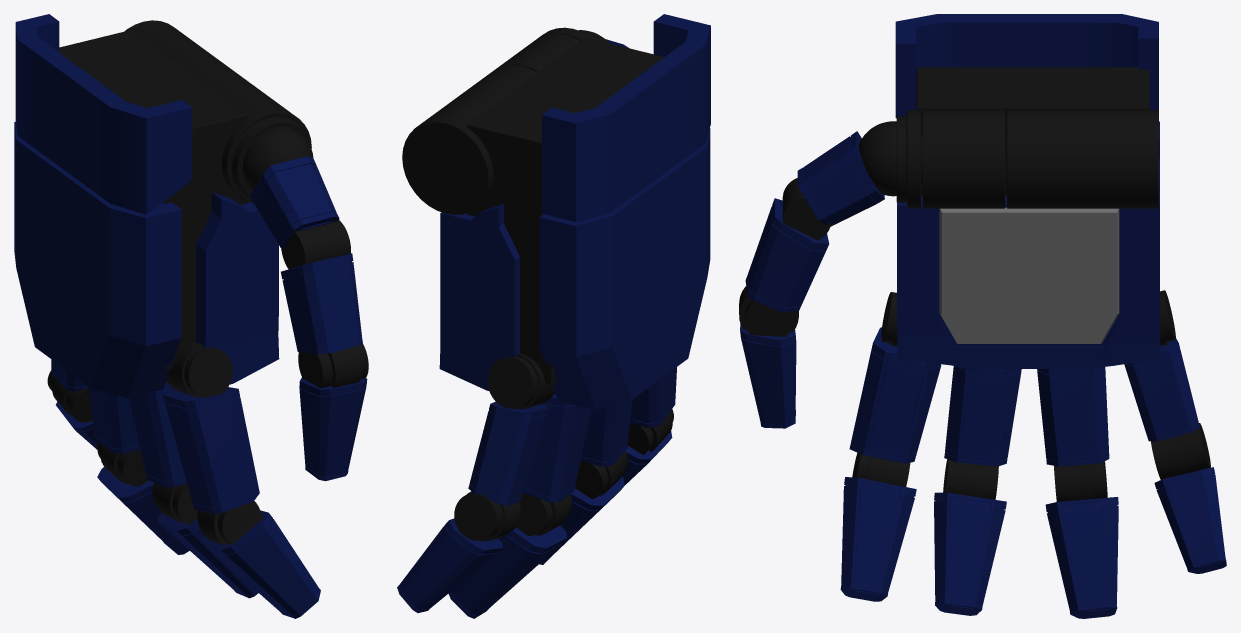
Rendered from r_hand.obj.
3 views of the same model, side by side, from view 1: azimuth 30°, elevation 25°; view 2: azimuth 150°, elevation 25°; view 3: azimuth 270°, elevation 25° (orthographic). The views are drawn at different scales.
Visible parts, largest first — view 1: r_hand; view 2: r_hand; view 3: r_hand.
Boxes of the visible parts, bbox=[...] form: r_hand: bbox=[14, 14, 368, 618]; r_hand: bbox=[397, 14, 710, 618]; r_hand: bbox=[739, 14, 1226, 618].
Size of the model in its own units: 0.203 by 0.5524 by 0.4555.
